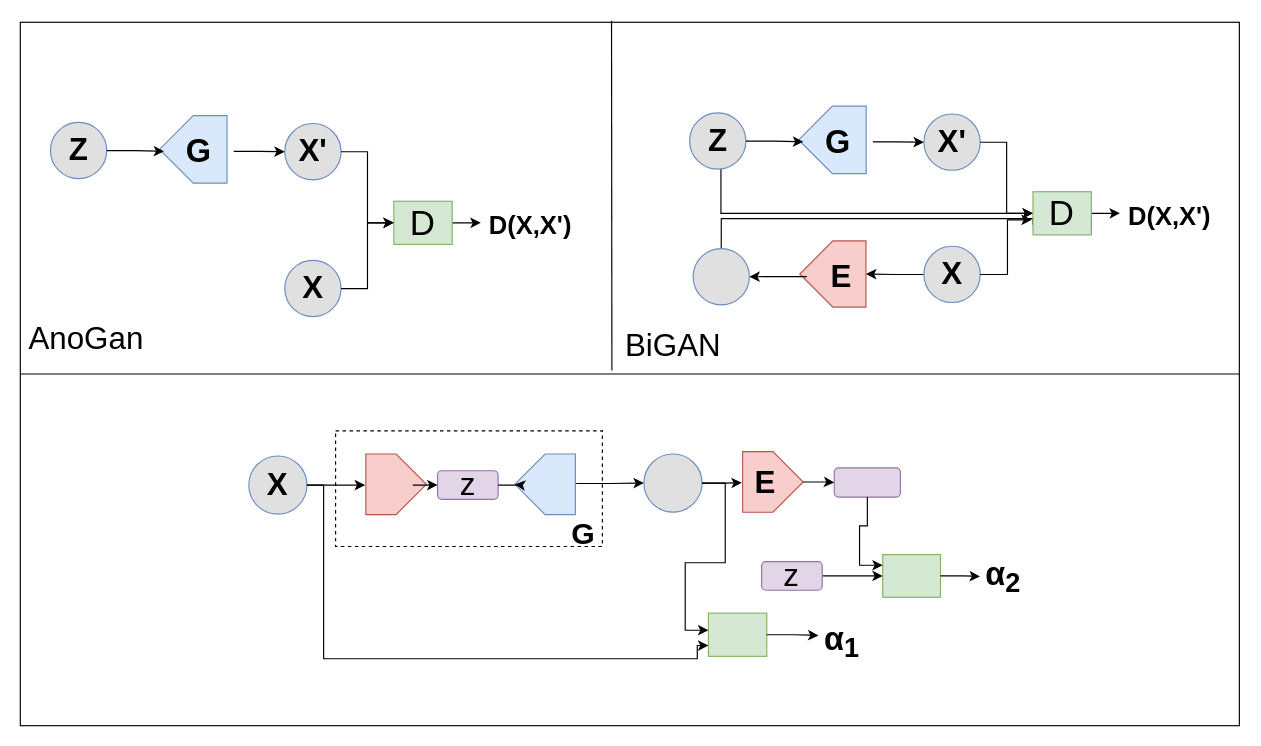
Some shapes in this 1261 by 746 pixel diagram are drawn without their labels. The shapes that lost their labels are listed below. From the top down, each one's centre as x and y in pixels, then its label:
At point 720,276: "Z'".
At point 395,484: "G E".
At point 544,484: "G D".
At point 672,482: "X_hat".
At point 866,482: "z_hat".
At point 911,575: "D 2".
At point 737,634: "D 1".
